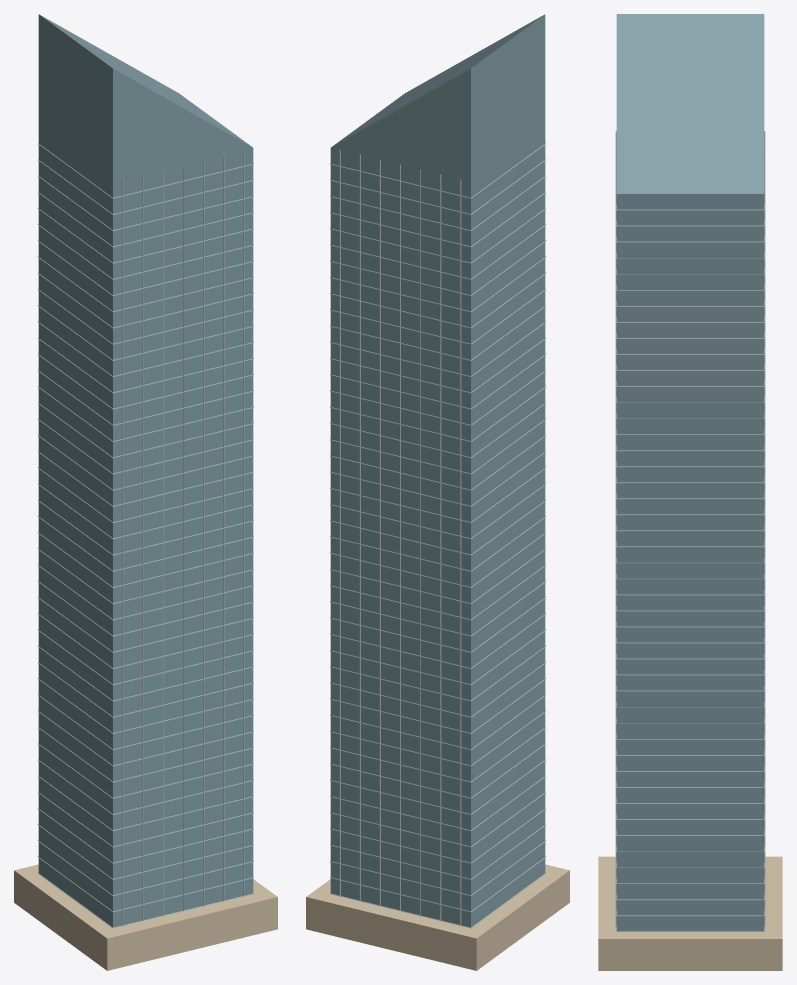
File: taiping-finance.glb
3 renders of one model, left to right at view 1: azimuth 30°, elevation 25°; view 2: azimuth 150°, elevation 25°; view 3: azimuth 270°, elevation 25°, orthographic.
Visible parts, largest first — view 1: taiping-finance; view 2: taiping-finance; view 3: taiping-finance.
Boxes of the visible parts, x1,y1,x2,y2 form: taiping-finance: [14, 14, 277, 970]; taiping-finance: [306, 14, 569, 970]; taiping-finance: [598, 14, 782, 970].
Bounding box in the file's own units: 47.63 × 238 × 45.07.
